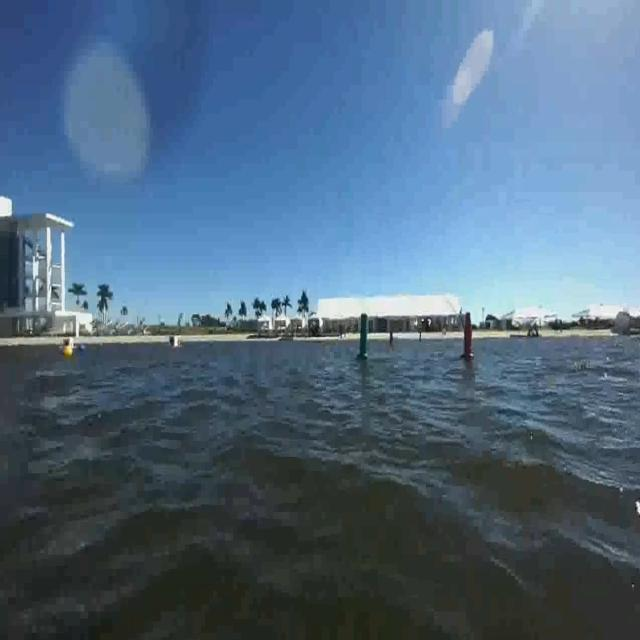green-column-buoy: (357, 313, 372, 362)
red-column-buoy: (462, 312, 477, 362)
yellow-duck: (65, 343, 74, 359)
